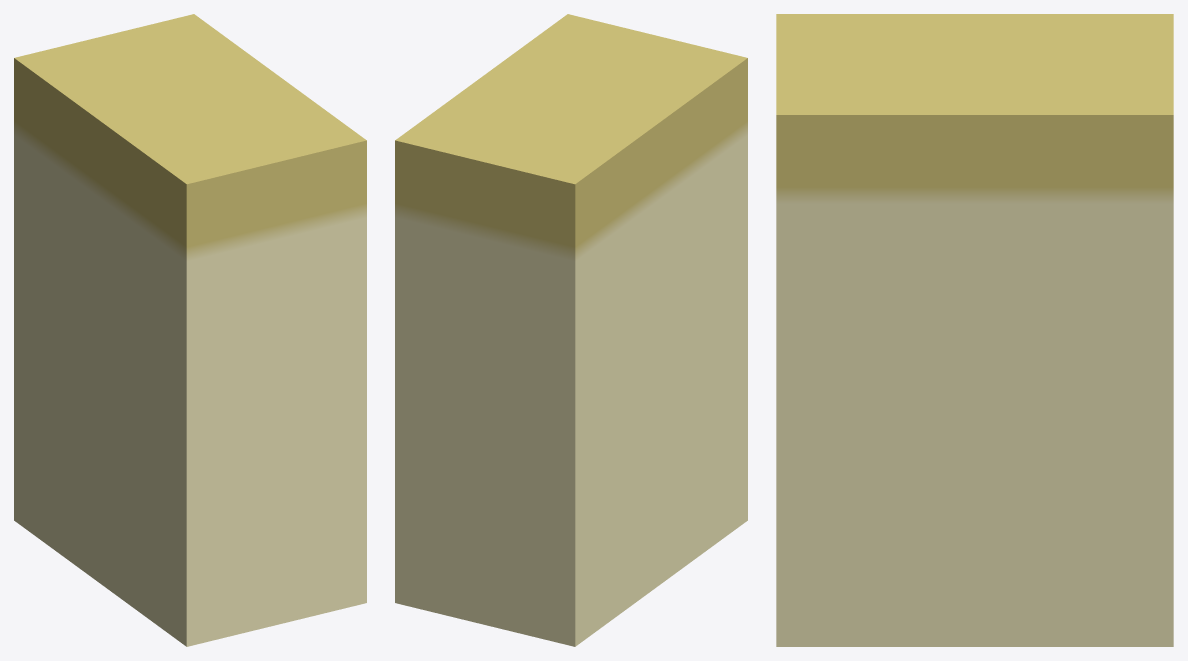
File: Itr_Obj_Book3_02.FBX
3 views of the same model, side by side, from view 1: azimuth 30°, elevation 25°; view 2: azimuth 150°, elevation 25°; view 3: azimuth 270°, elevation 25° (orthographic). The views are drawn at different scales.
Visible parts, largest first — view 1: Itr_Obj_Book3_02; view 2: Itr_Obj_Book3_02; view 3: Itr_Obj_Book3_02.
Part boxes in pixels (left/top/right/bottom): Itr_Obj_Book3_02: left=14, top=14, right=366, bottom=646; Itr_Obj_Book3_02: left=395, top=14, right=747, bottom=646; Itr_Obj_Book3_02: left=776, top=14, right=1173, bottom=646.
Size of the model in its own units: 3.41 by 8.38 by 5.67.
